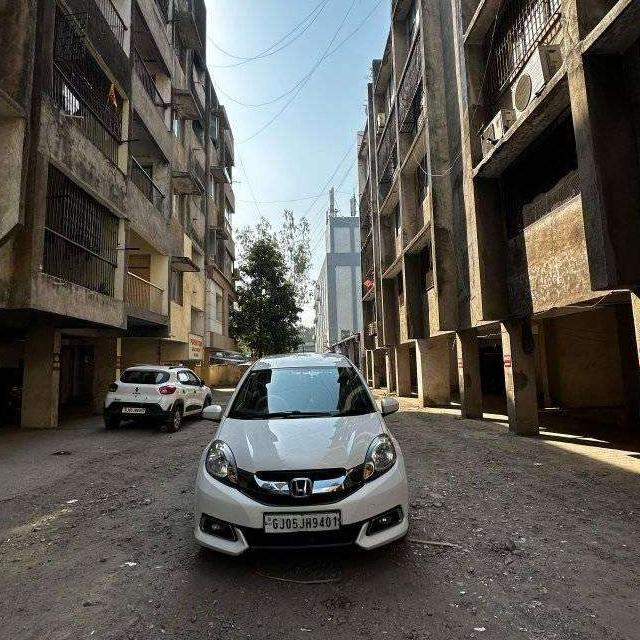Indian_Number_Plate: (263, 511, 343, 531)
